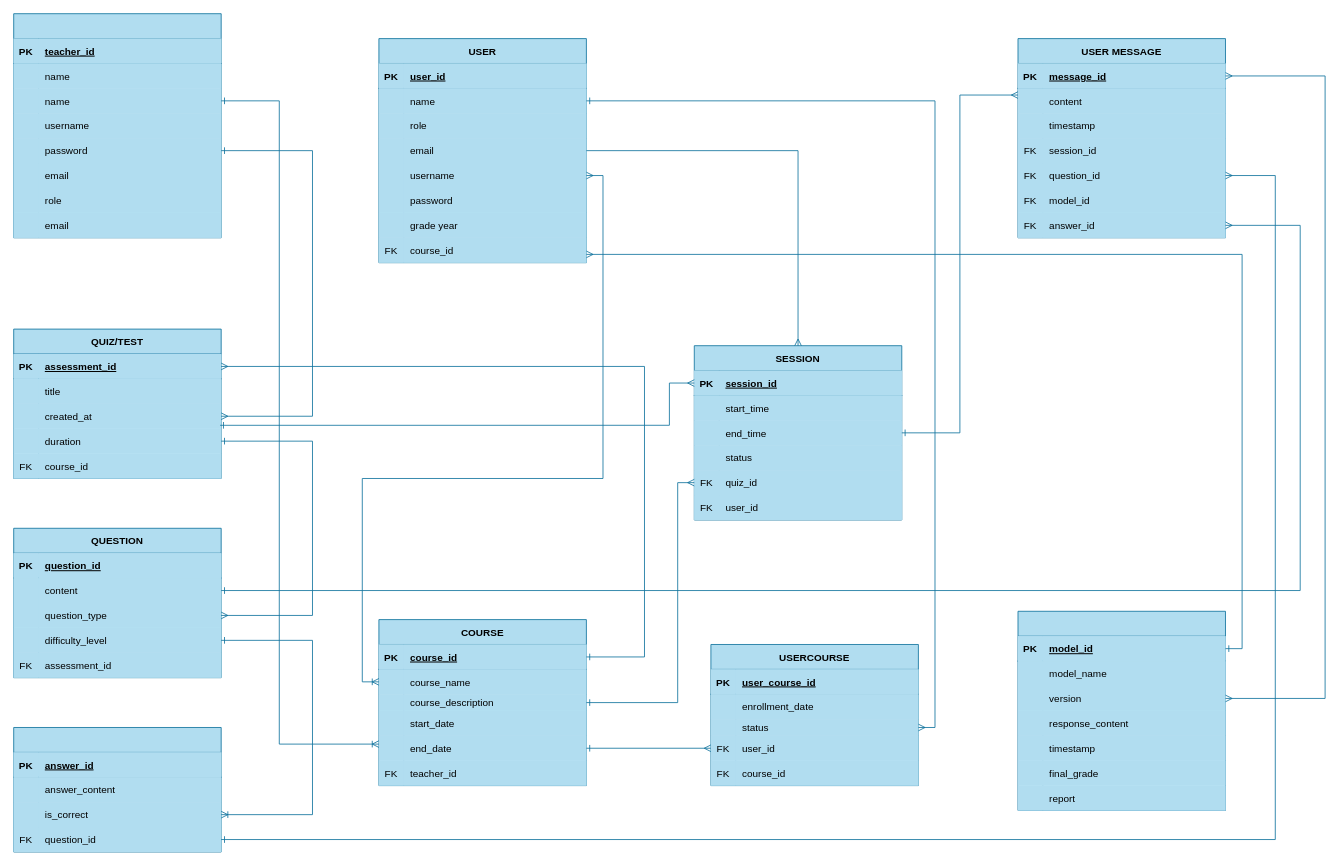
The diagram is 1339 pixels wide and 866 high, and some of its shapes have lost their labels. The box of each missing label's shape, as (x1, y1, x2, y2) in pixels:
AI MODEL: (1017, 610, 1225, 810)
ANSWER KEY: (13, 727, 221, 852)
TEACHER (ADMIN): (13, 13, 221, 238)
